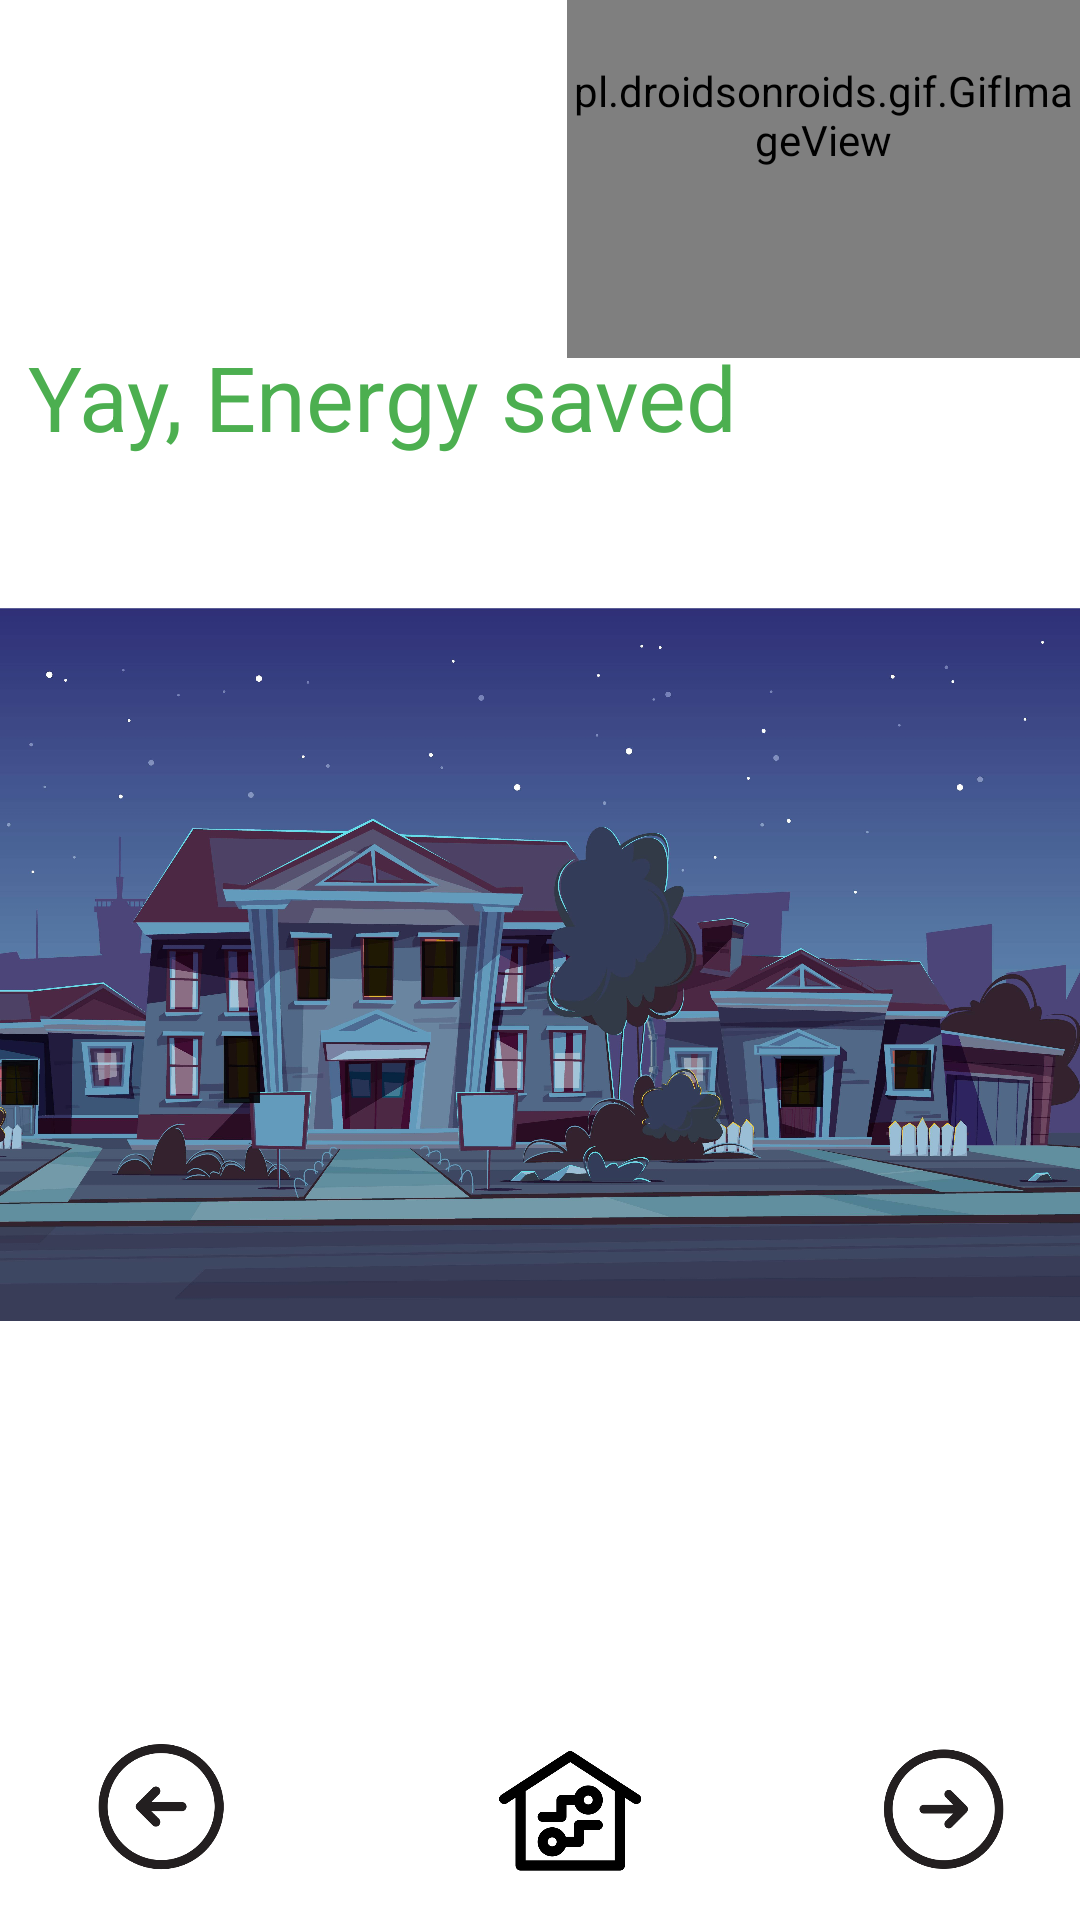

Where icons sit on this 1080x1920 app screen, as BBox(x1, y1, x2, y2):
back: BBox(98, 1744, 224, 1869)
forward: BBox(884, 1749, 1004, 1869)
home: BBox(499, 1751, 641, 1871)
